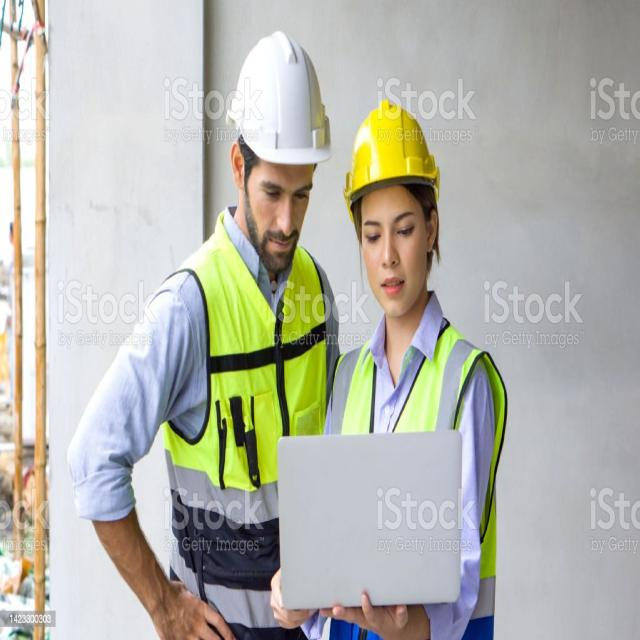helmet: (230, 25, 339, 175), (344, 92, 448, 206)
no-goggles: (359, 212, 429, 250), (258, 171, 320, 200)
vest: (154, 207, 324, 492), (338, 330, 505, 560)
